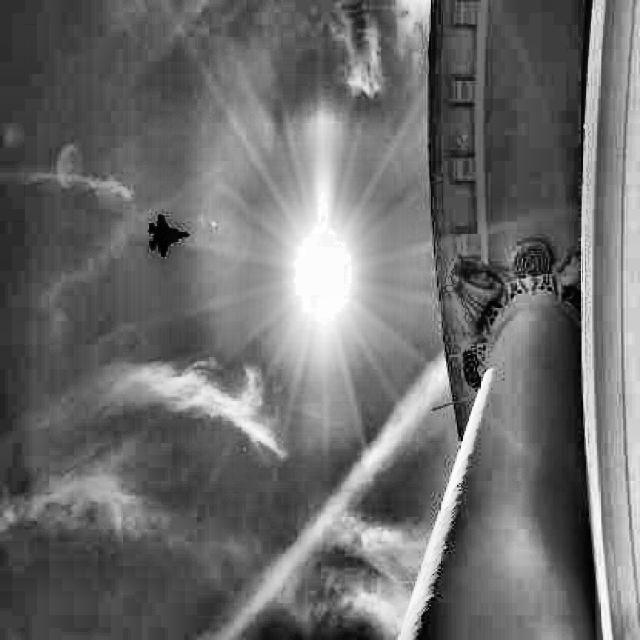F35: (148, 213, 189, 258)
